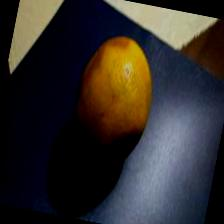Orange Rotten: (53, 25, 182, 196)
